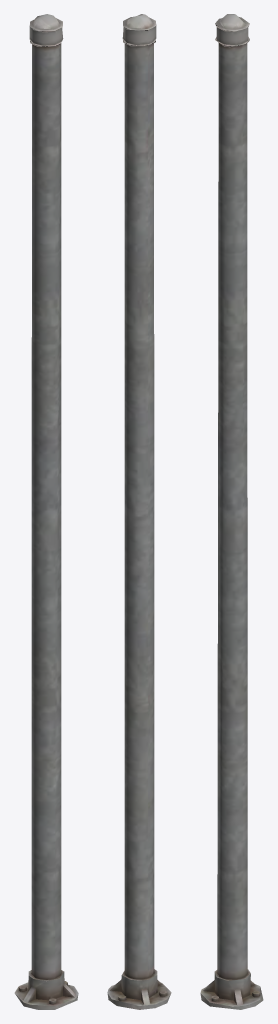
The model's file is fence_post.glb.
The picture shows the model from 3 angles, left to right: view 1: azimuth 30°, elevation 25°; view 2: azimuth 210°, elevation 25°; view 3: azimuth 330°, elevation 25°; orthographic projection.
Parts seen in each view (by area): view 1: modular_chainlink_fence_post; view 2: modular_chainlink_fence_post; view 3: modular_chainlink_fence_post.
Boxes of the visible parts, box(x1,y1,x2,y2) form: modular_chainlink_fence_post: box(14, 14, 78, 1009); modular_chainlink_fence_post: box(107, 14, 171, 1009); modular_chainlink_fence_post: box(200, 14, 263, 1009).
Bounding box in the file's own units: 0.1469 × 2.52 × 0.1469.
1 material, 1 textured.
